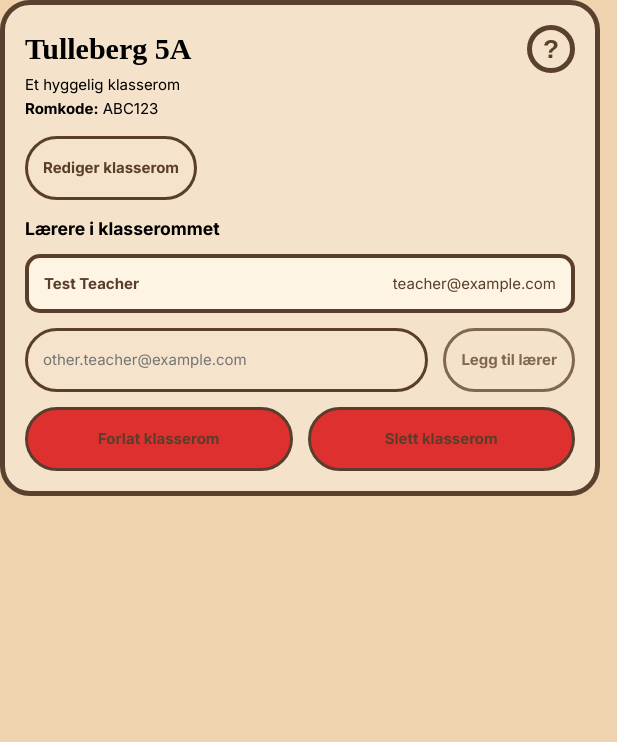
Test: TeachersEditClassroom › successfully updates classroom details
Click the button with class "edit-classroom-btn" at (111, 168), box [25, 136, 197, 200]
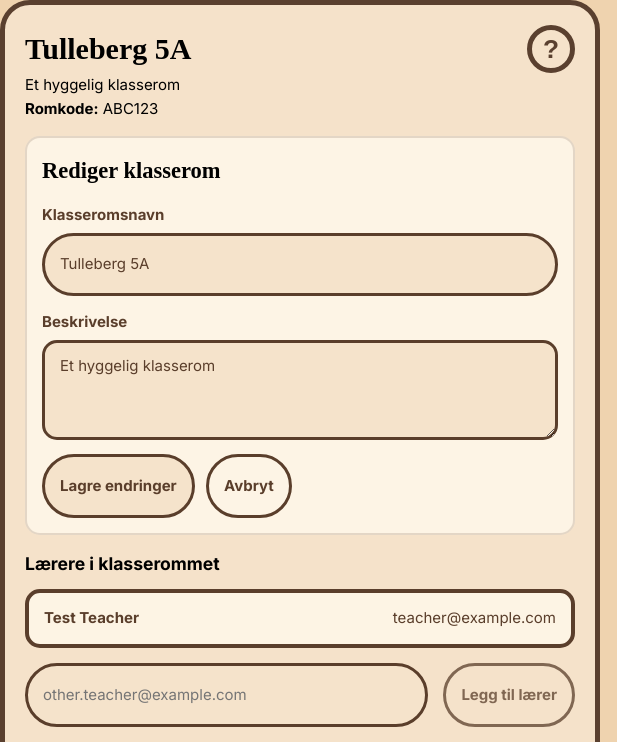
Replace the text in the field with class "teacher-input" showing "Klasseromsnavn" with "Ny klasse" at (300, 264), box [42, 232, 558, 296]
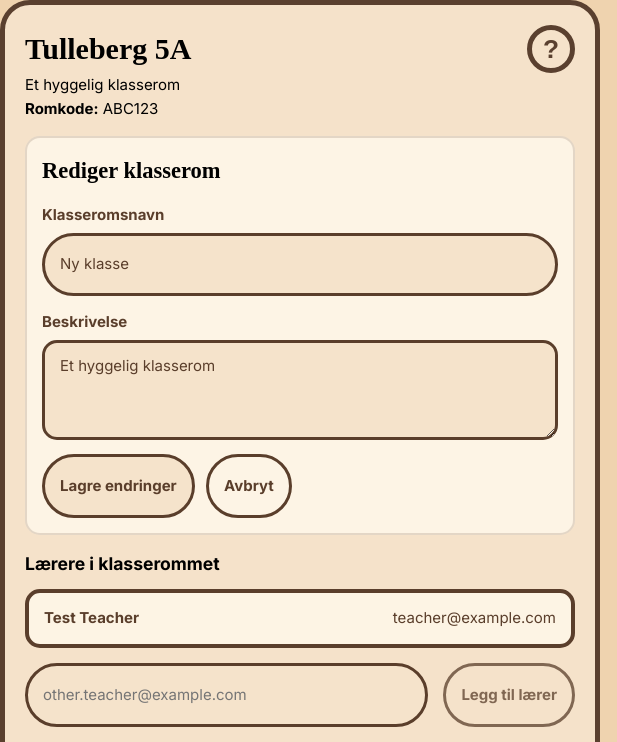
Replace the text in the text box with class "teacher-textarea" with "Ny beskrivelse" at (300, 390), box [42, 340, 558, 440]
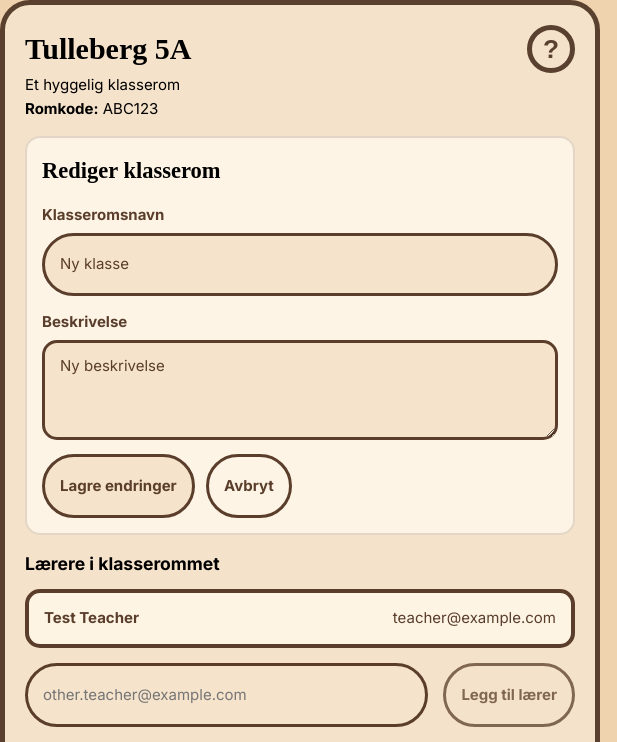
Click the button "Lagre endringer" at (118, 486), box [42, 454, 195, 518]
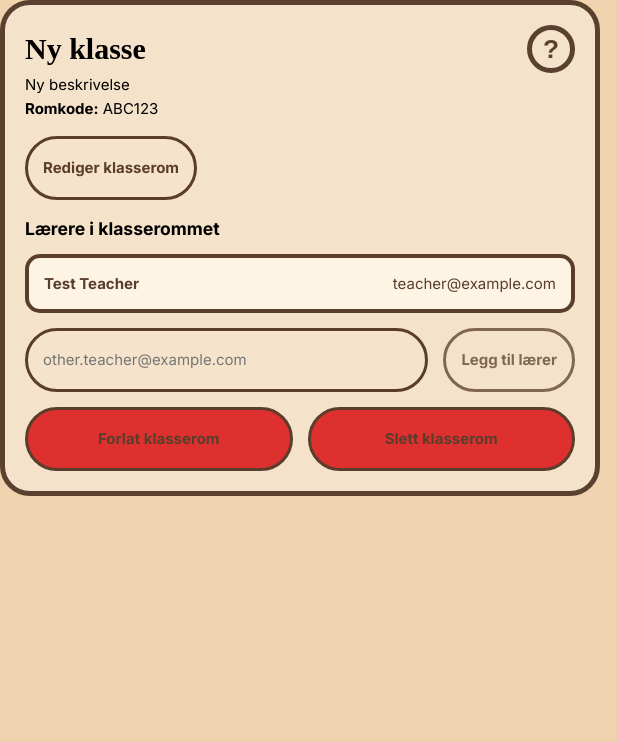
Now the text "Ny klasse" is shown, box [25, 25, 158, 73]
Now the text "Ny beskrivelse" is shown, box [25, 75, 130, 94]
